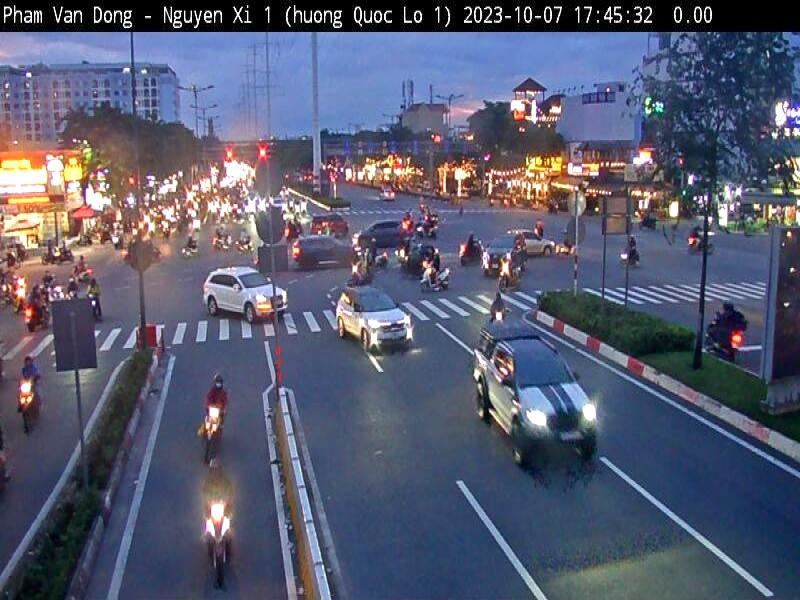car: (436, 308, 614, 489), (195, 255, 278, 344), (324, 283, 406, 356), (292, 228, 364, 279), (500, 219, 549, 279), (358, 215, 418, 262), (486, 230, 530, 292)
motorcycle: (161, 393, 230, 481), (191, 495, 252, 584)
